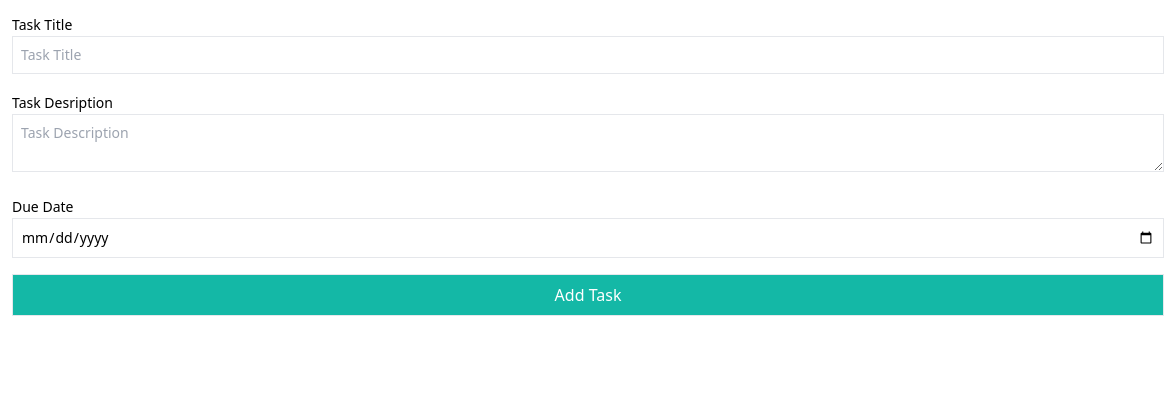
Test: TaskForm Component › displays error messages for empty required fields on submit
Click the button "Add Task". click: [588, 295]
box: [12,274,1164,316]
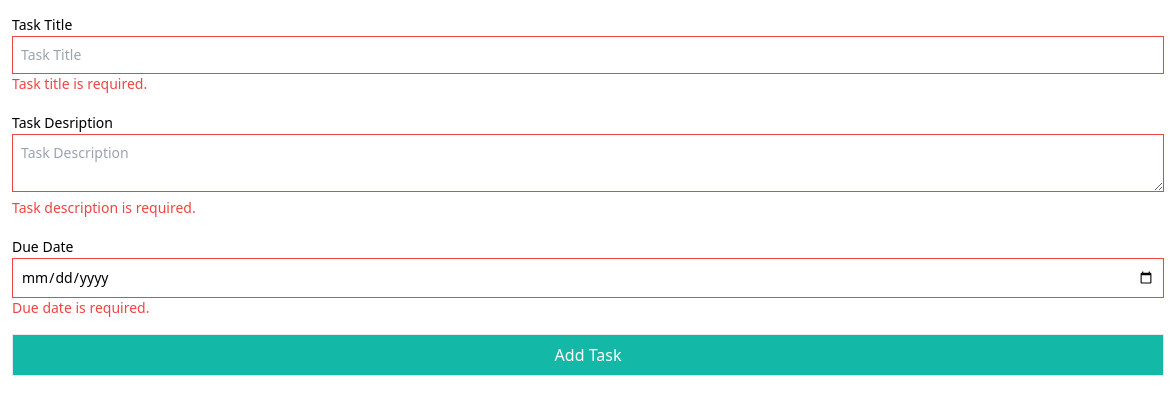
Check: the text "Task title is required." is shown, box [12,74,147,93]
Check: the text "Task description is required." is shown, box [12,198,196,217]
Check: the text "Due date is required." is shown, box [12,298,150,317]
